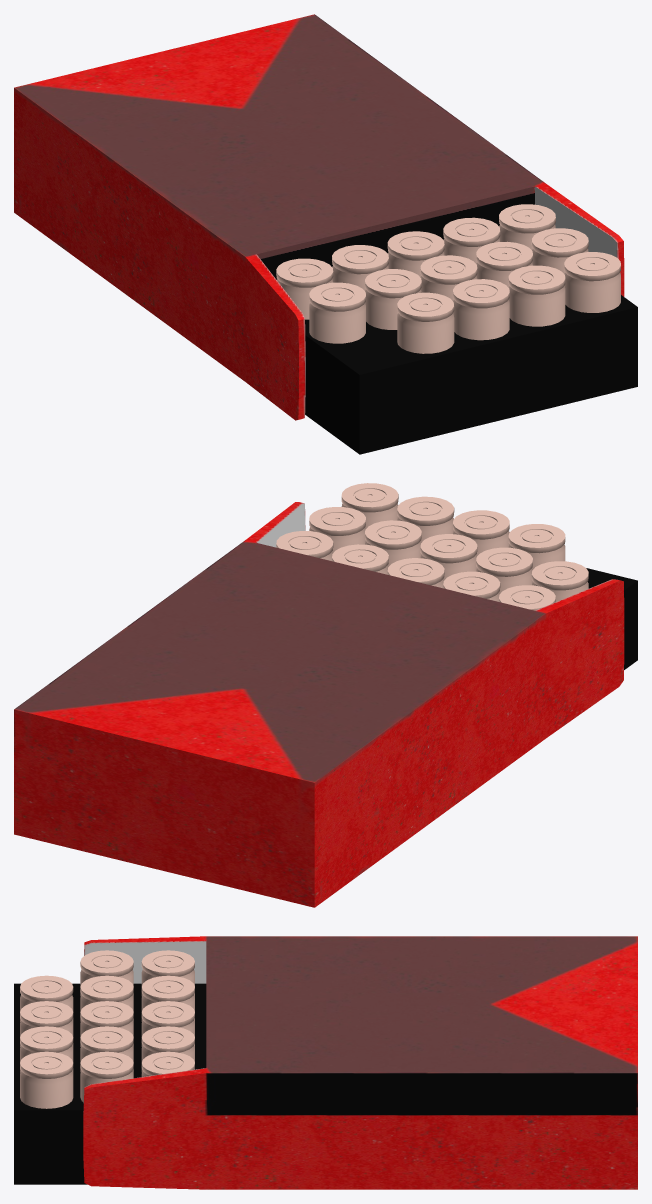
File: box_of_bullets.glb
3 renders of one model, top to bottom at view 1: azimuth 30°, elevation 25°; view 2: azimuth 150°, elevation 25°; view 3: azimuth 270°, elevation 25°, orthographic. The views are drawn at different scales.
Visible parts, largest first — view 1: BulletBox_Geo (×3); view 2: BulletBox_Geo (×3); view 3: BulletBox_Geo (×3).
Boxes of the visible parts, x1=… form: BulletBox_Geo (×3): x1=14, y1=14, x2=637, y2=454; BulletBox_Geo (×3): x1=14, y1=483, x2=637, y2=907; BulletBox_Geo (×3): x1=14, y1=936, x2=637, y2=1189.
Size of the model in its own units: 1.12 by 0.4121 by 2.
Materials: 3 (3 with a texture image).
